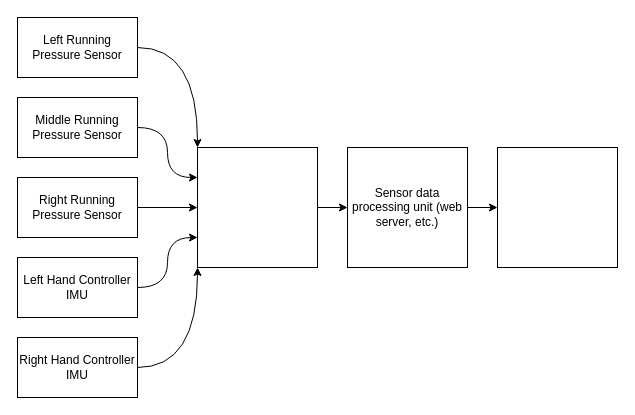
Some shapes in this 635 by 415 pixel diagram are drawn without their labels. Each missing label, with the box of its shape:
n x ESP32(s): (196, 146, 318, 268)
Videogame: (496, 146, 618, 268)
